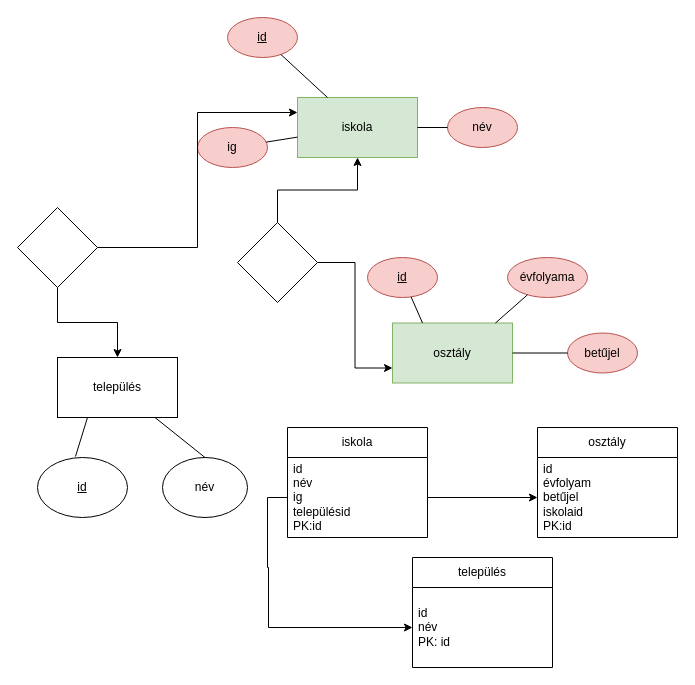
This 695x685 diagram has some shape labels left out. The shapes that lost their labels are listed below. From the top down, each one's centre as x and y in pixels, then its label:
At point 57,247: "települése".
At point 277,262: "osztálya".
